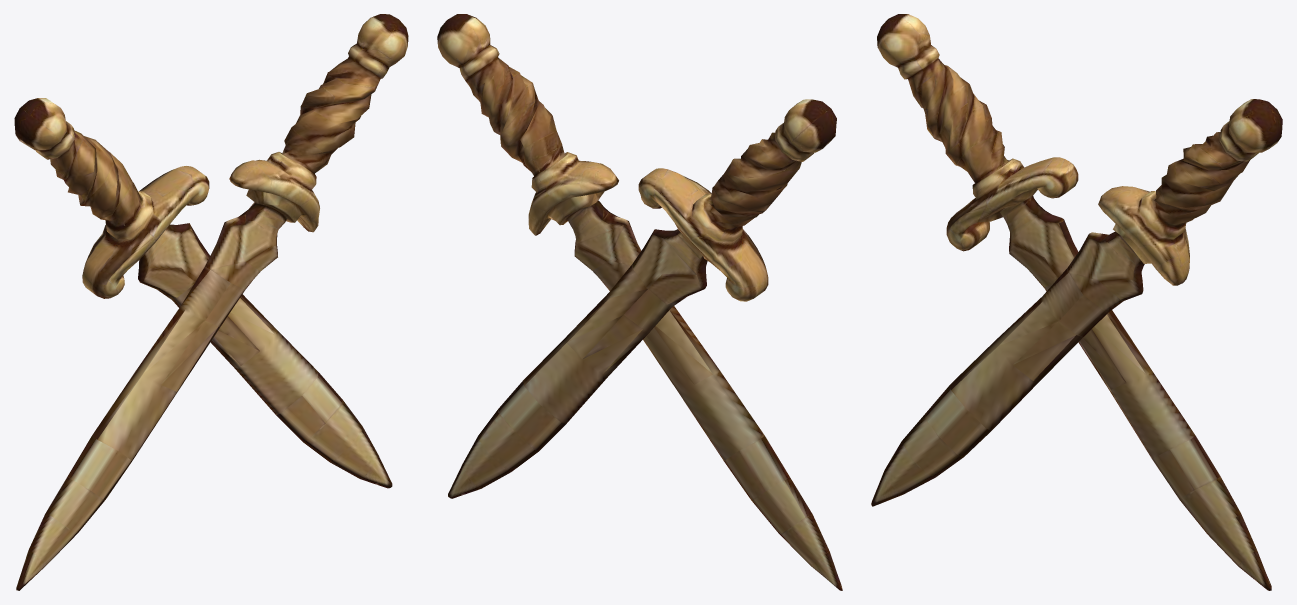
The model's file is item-letterOpeners.glb.
3 renders of one model, left to right at view 1: azimuth 30°, elevation 25°; view 2: azimuth 150°, elevation 25°; view 3: azimuth 330°, elevation 25°, orthographic. The views are drawn at different scales.
Bounding box in the file's own units: 0.8125 × 0.9507 × 0.1172.
1 material, 1 textured.
